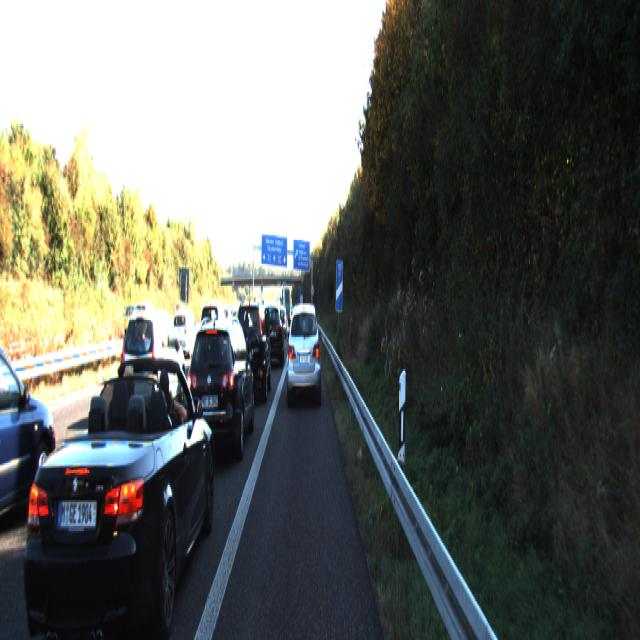Car: (16, 348, 220, 638), (0, 334, 59, 550), (182, 315, 256, 471), (120, 307, 186, 423), (231, 300, 272, 406), (286, 300, 322, 407), (197, 302, 230, 375), (259, 299, 285, 368), (171, 308, 199, 359)
